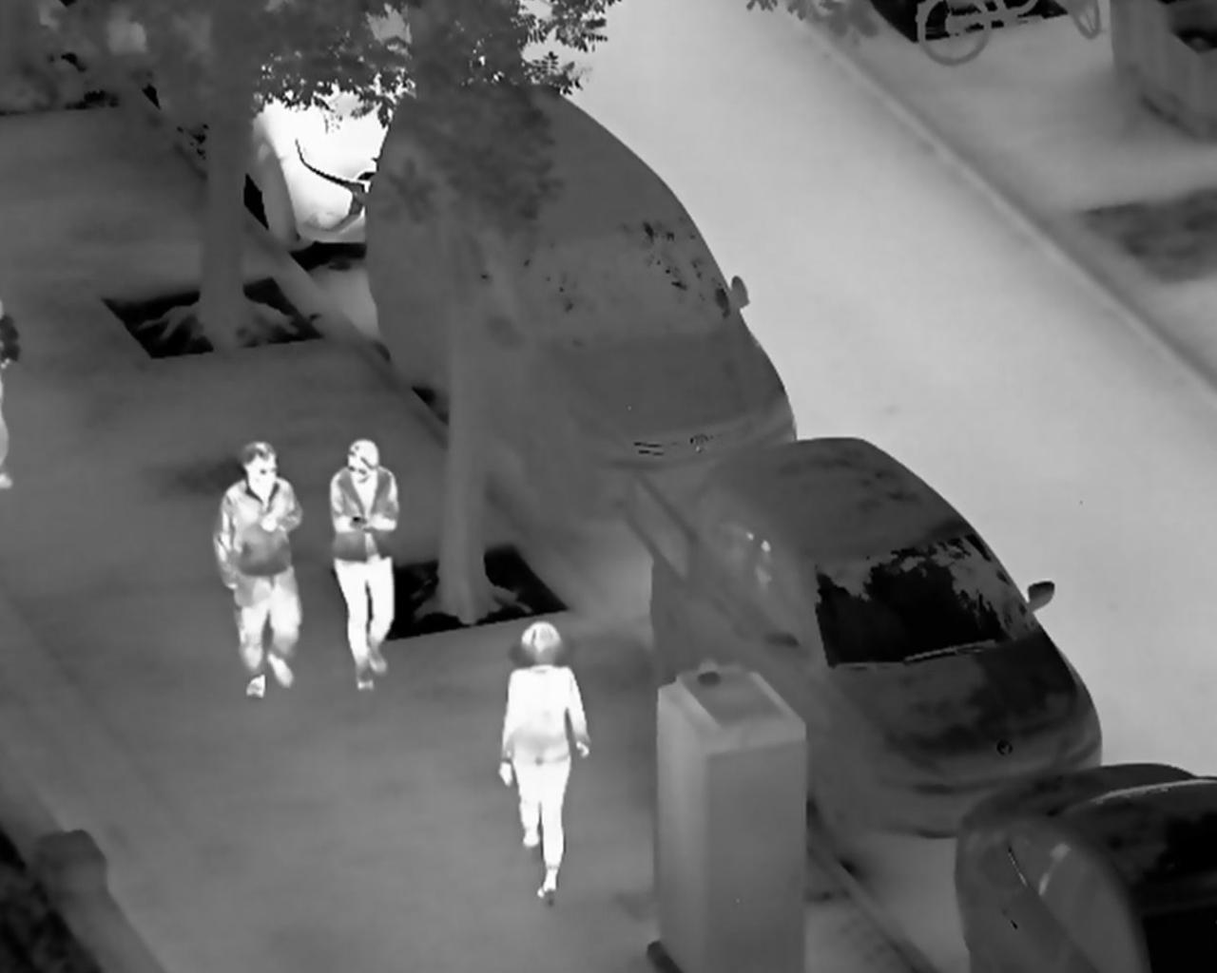person: (496, 620, 590, 910), (211, 438, 304, 700), (325, 437, 403, 696)
